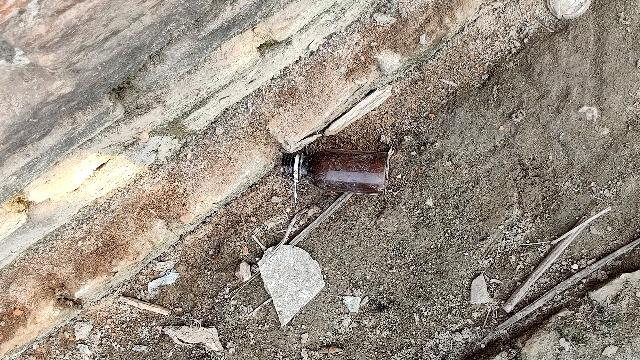bottle: (279, 147, 398, 202)
